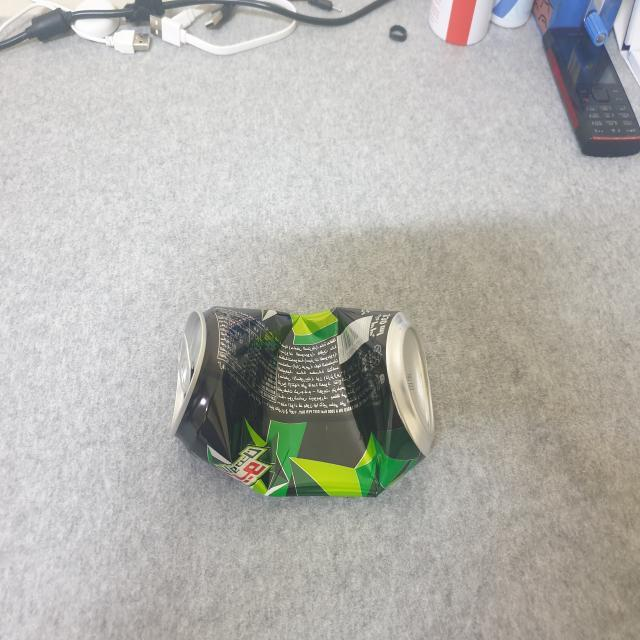can: (163, 293, 438, 514)
